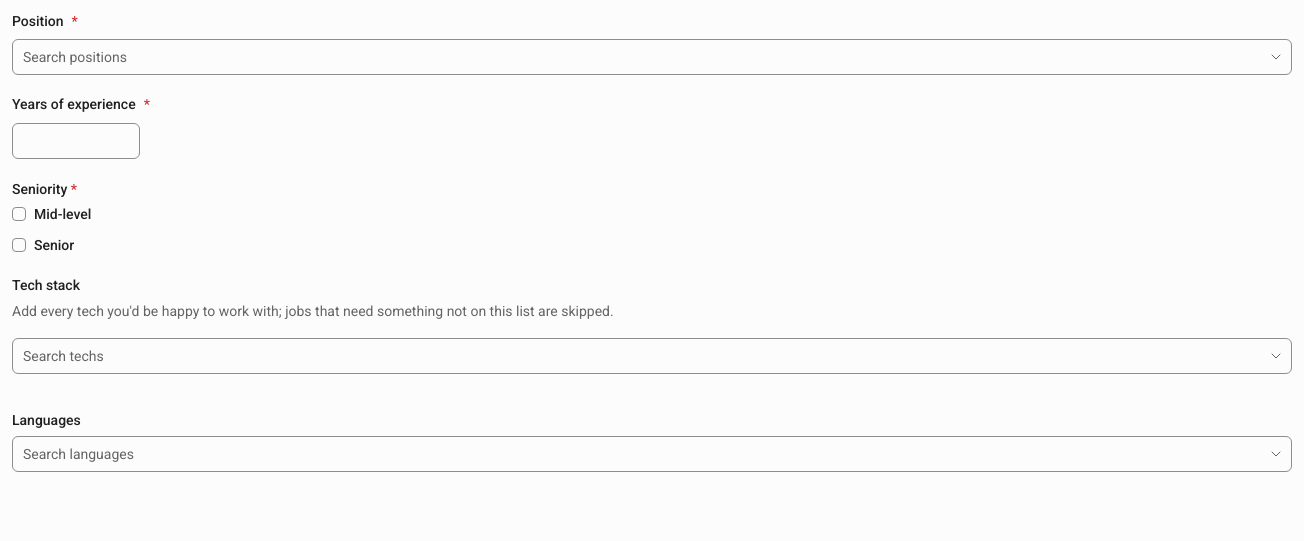
Test: JobForm › a language appears once
Type "eng" into the dropdown named "Add a language" at (638, 454), box [13,436,1264,472]
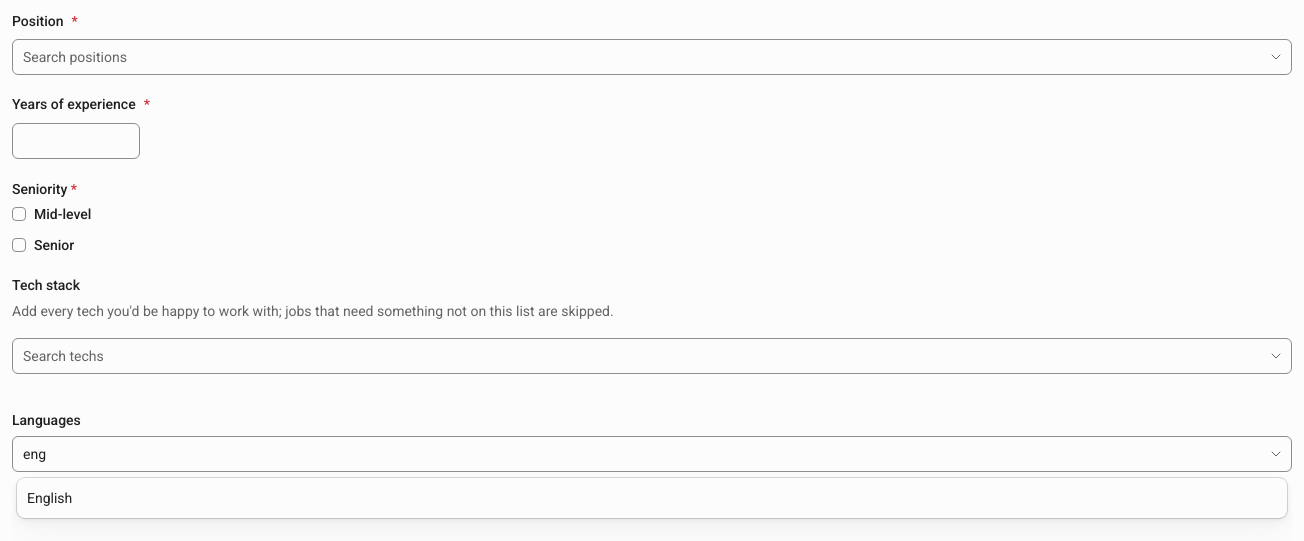
Click the option "English" at (50, 498), box [27,490,72,506]
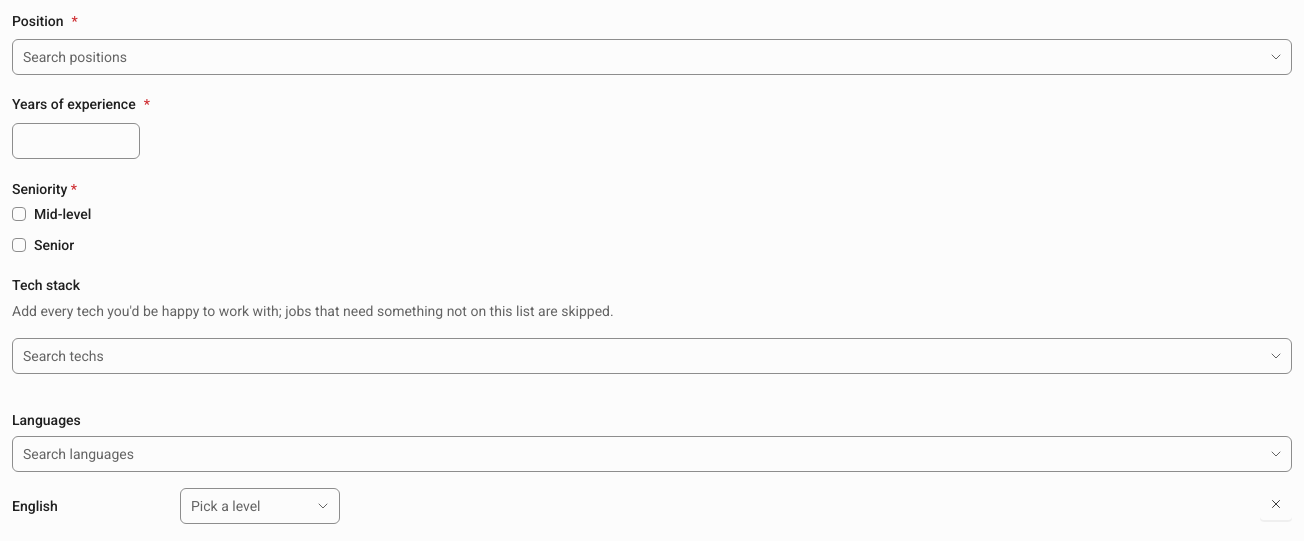
Now the button named "Remove English" is shown, box [1260,488,1292,520]
Type "e" into the dropdown named "Add a language" at (638, 454), box [13,436,1264,472]
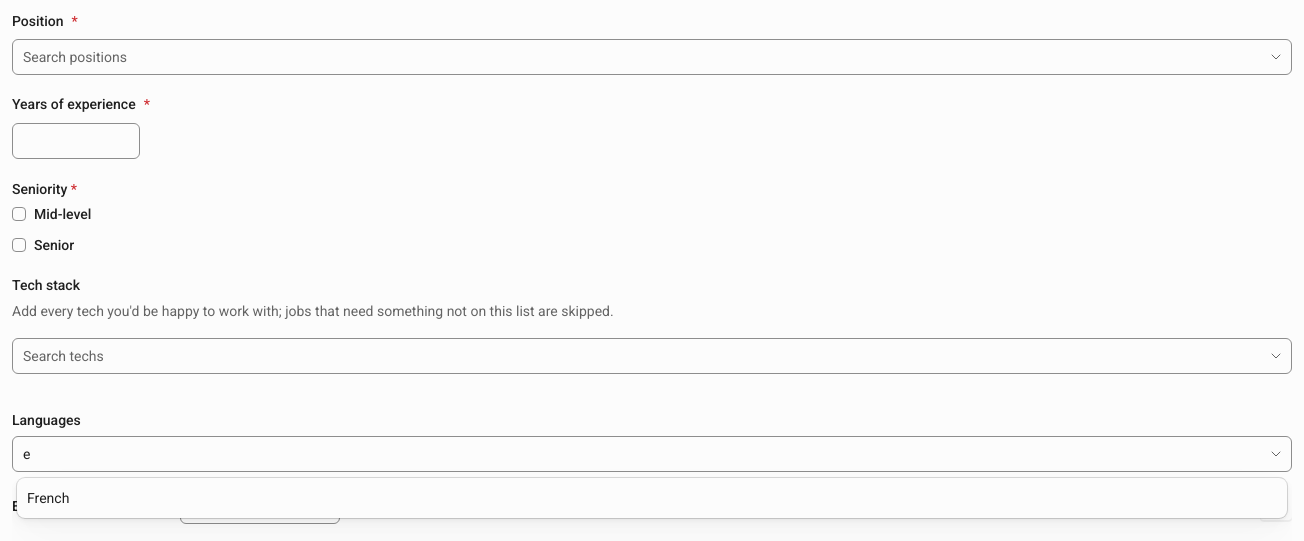
Now the option "French" is shown, box [27,490,69,506]
